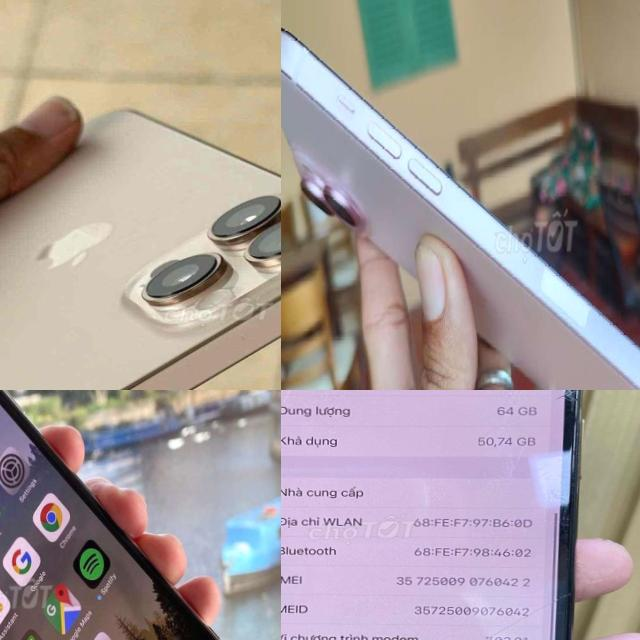gen_11: (0, 390, 219, 640)
gen_15: (281, 8, 640, 390)
gen_16: (0, 109, 281, 390)
gen_x_xs: (281, 390, 601, 640)
